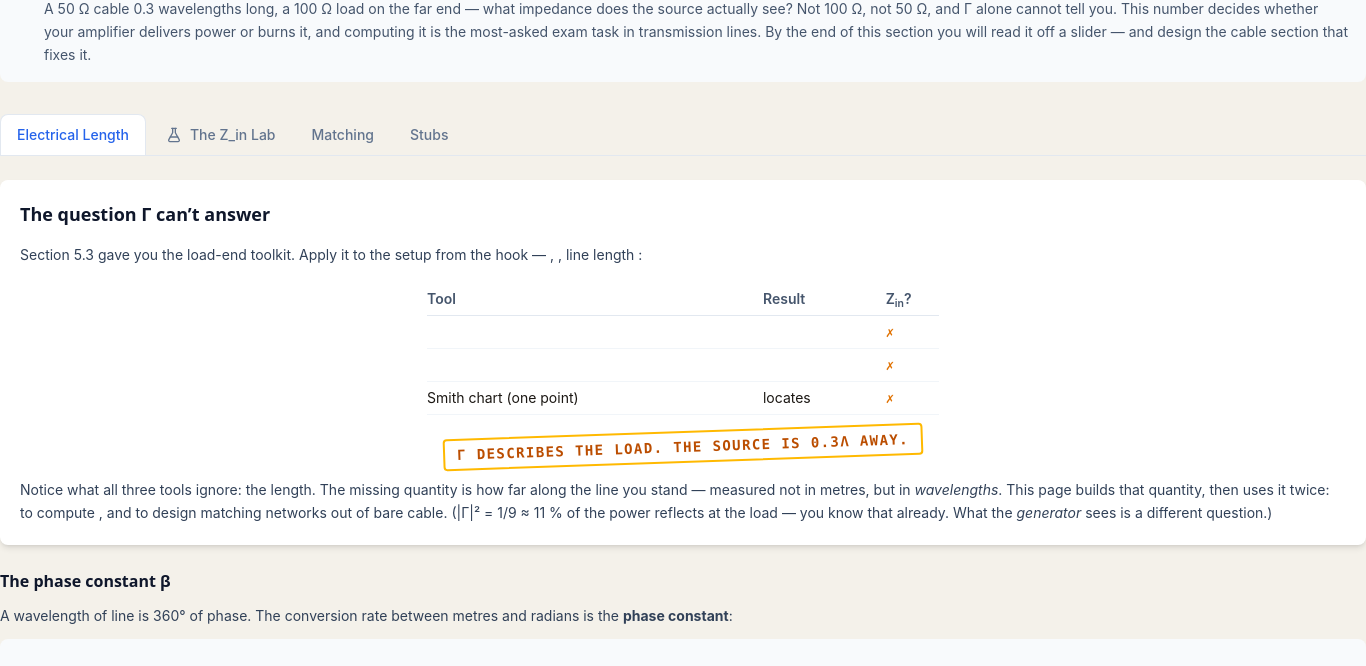
Test: LineImpedance — section 5.4 page › bench readouts: λ/4 inversion on the exam load, then → ∞ for the short
Click the tab "The Z_in Lab".
click(221, 135)  # box left=150, top=114, right=292, bottom=155
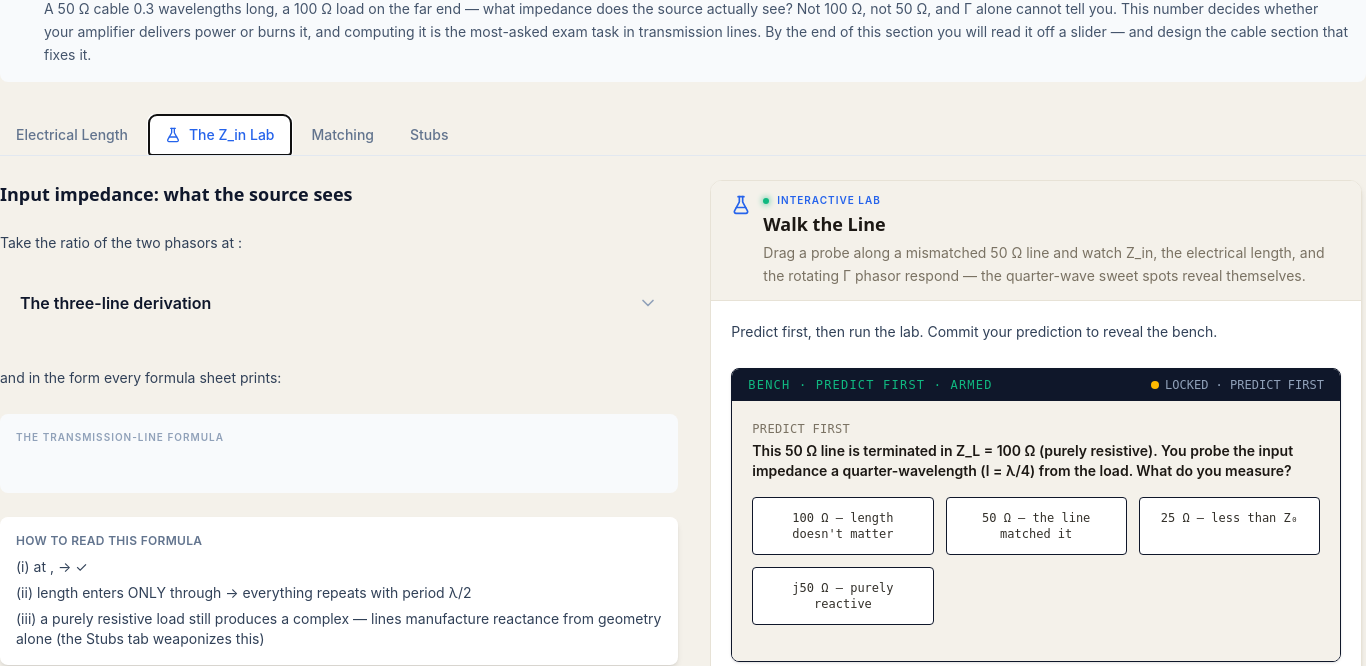
Click the button "25 Ω — less than Z₀".
click(1229, 526)  # box left=1139, top=496, right=1320, bottom=554
(page scrolled)
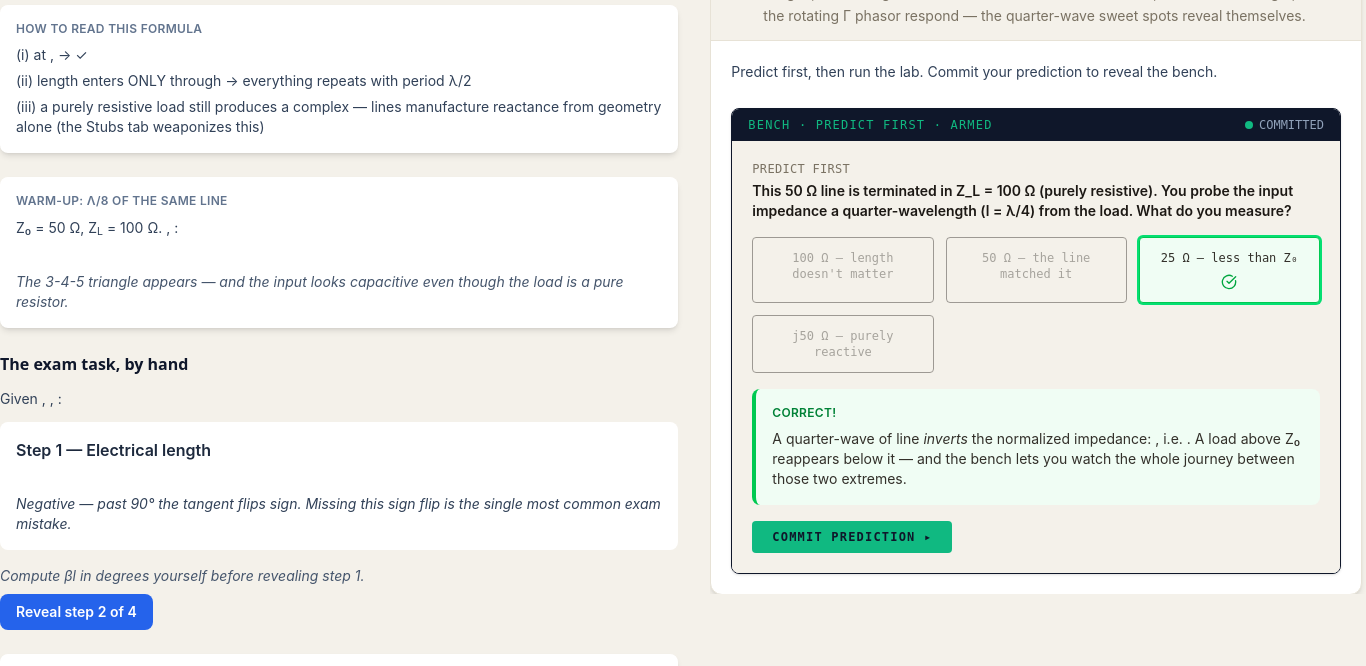
Click the button "COMMIT PREDICTION ▸".
click(852, 536)  # box left=752, top=520, right=952, bottom=552
(page scrolled)
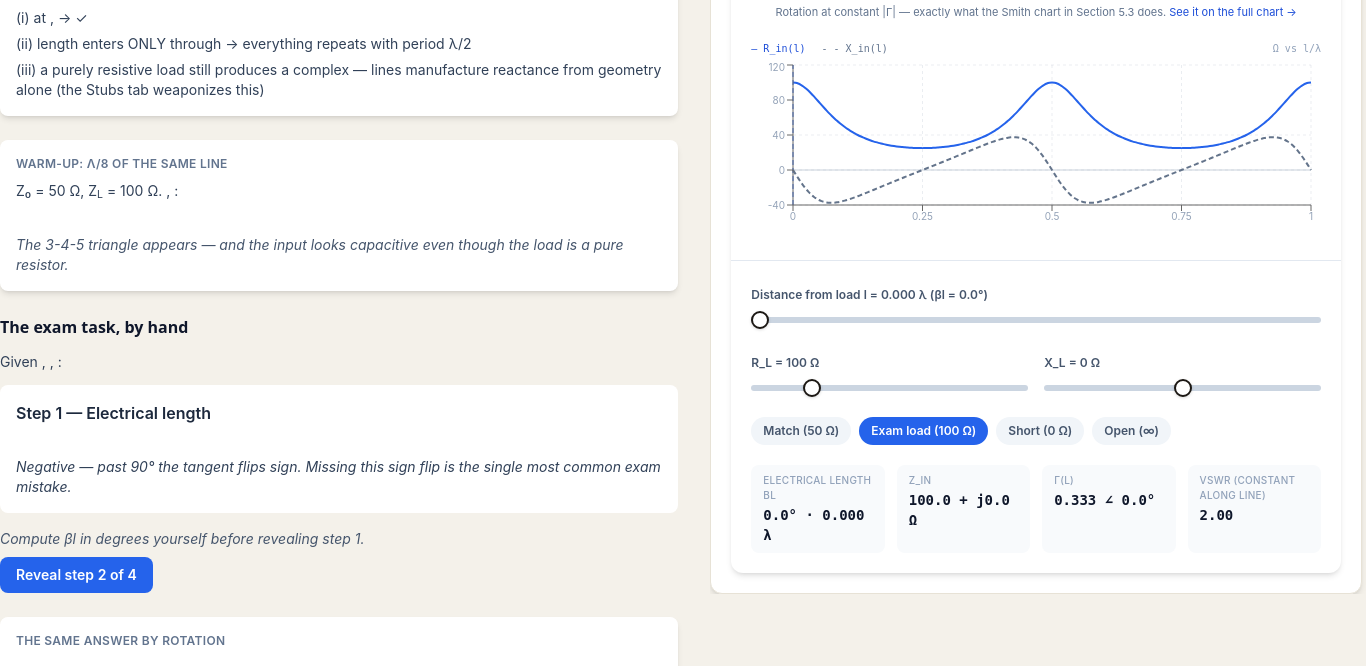
Set the slider labelled "Distance from load l = 0.000 λ (βl = 0.0°)" to "0.25" at (898, 320), box left=751, top=317, right=1321, bottom=323
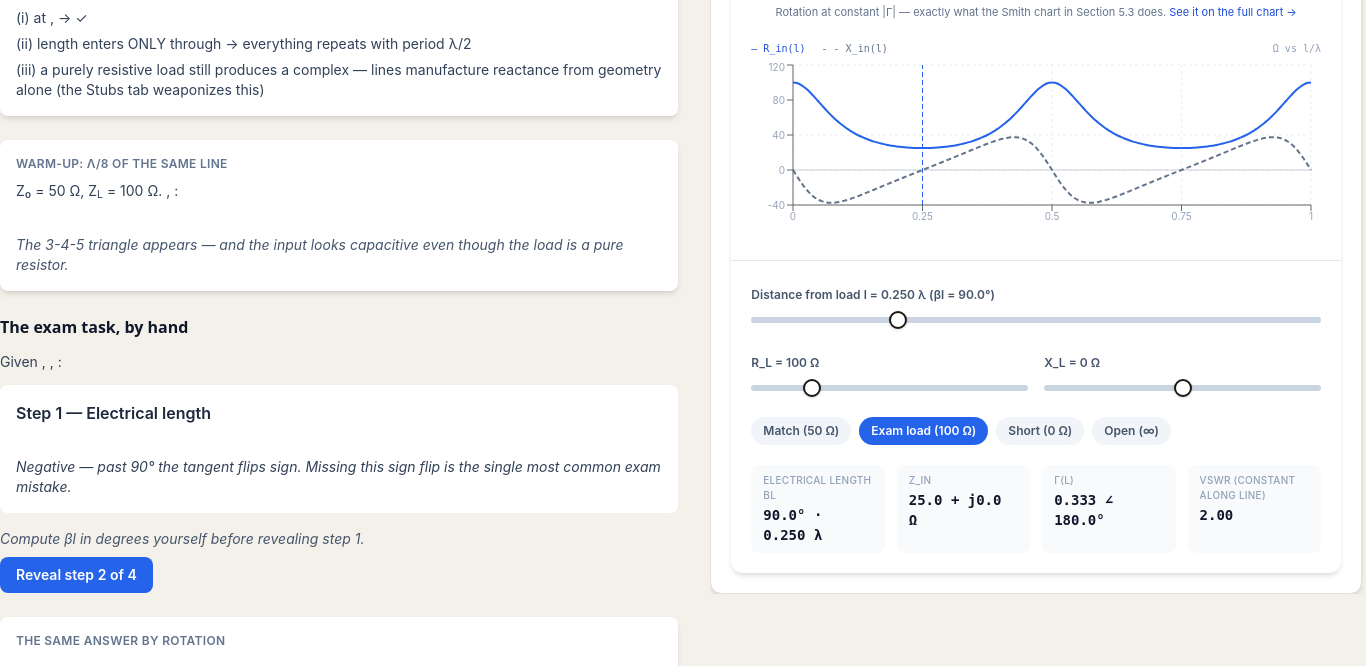
Expected: the text "25.0 + j0.0 Ω" is shown, left=909, top=492, right=1001, bottom=528
Click the button "Short (0 Ω)".
click(1040, 431)  # box left=996, top=417, right=1084, bottom=445
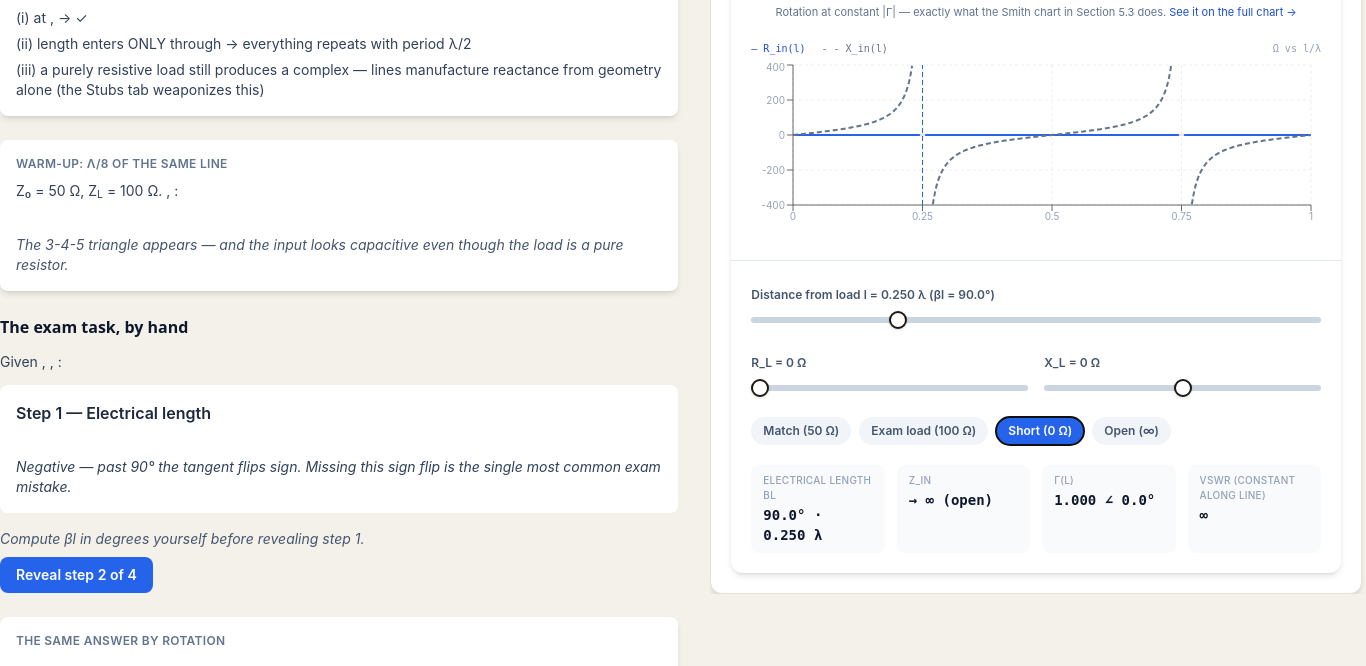
Expected: the text "→ ∞ (open)" is shown, left=909, top=492, right=993, bottom=508
